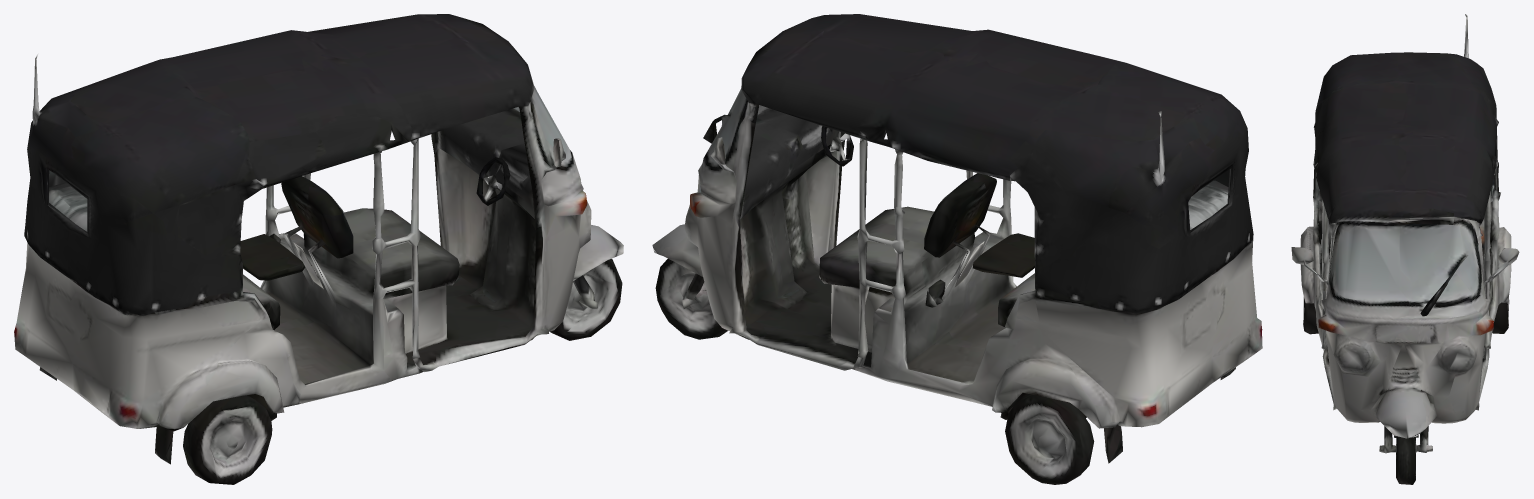
The model's file is tuk_1.glb.
The picture shows the model from 3 angles, left to right: view 1: azimuth 30°, elevation 25°; view 2: azimuth 150°, elevation 25°; view 3: azimuth 270°, elevation 25°; orthographic projection. The views are drawn at different scales.
Visible parts, largest first — view 1: tripo_node_17fd145a-8675-4ac6-bb4f-7950712a3b92; view 2: tripo_node_17fd145a-8675-4ac6-bb4f-7950712a3b92; view 3: tripo_node_17fd145a-8675-4ac6-bb4f-7950712a3b92.
Boxes of the visible parts, <box> form: tripo_node_17fd145a-8675-4ac6-bb4f-7950712a3b92: <box>14,14,623,484</box>; tripo_node_17fd145a-8675-4ac6-bb4f-7950712a3b92: <box>652,14,1262,484</box>; tripo_node_17fd145a-8675-4ac6-bb4f-7950712a3b92: <box>1291,14,1519,484</box>.
Bounding box in the file's own units: 0.9997 × 0.6434 × 0.4683.
1 material, 1 textured.
